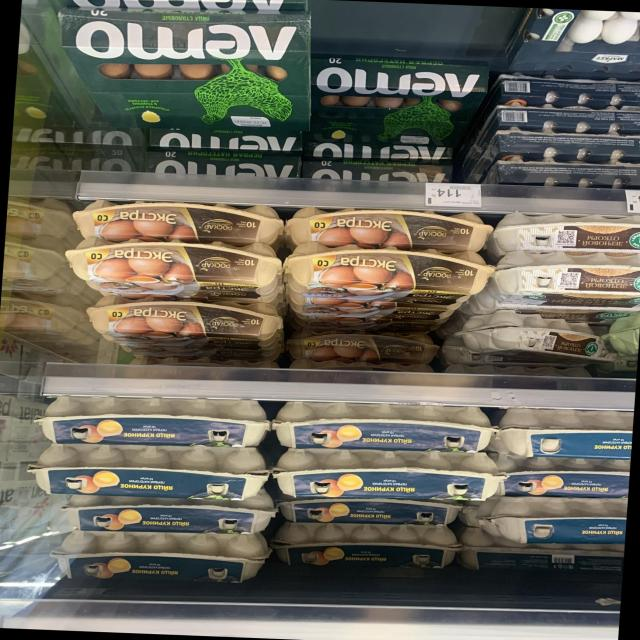organic waste: (27, 438, 270, 502), (64, 235, 280, 303), (32, 390, 271, 449), (283, 242, 495, 308), (50, 528, 269, 588), (273, 450, 504, 504), (272, 400, 492, 454), (271, 519, 463, 572), (56, 492, 273, 538), (72, 198, 283, 245), (283, 205, 493, 252), (492, 246, 640, 312), (460, 309, 627, 366), (84, 296, 284, 342), (473, 494, 628, 546), (495, 210, 640, 258), (501, 408, 634, 459), (498, 451, 630, 502), (285, 326, 438, 366)
